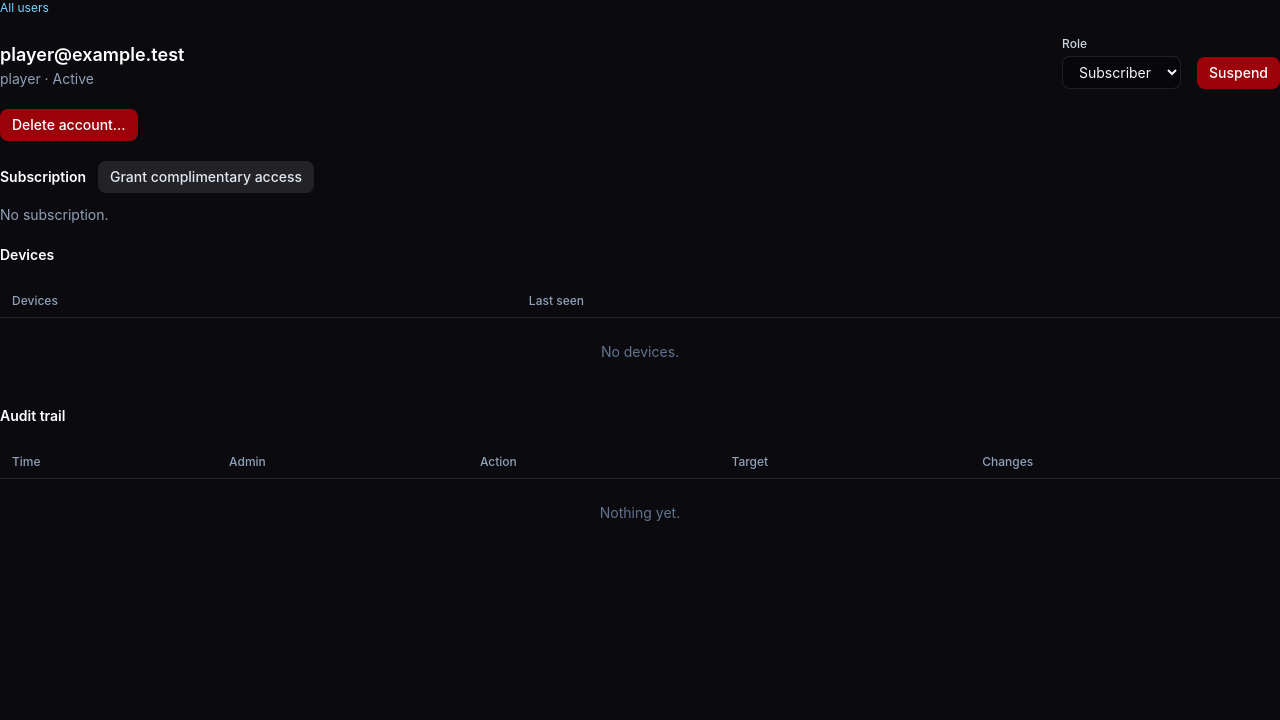
Test: Subscription panel (S13, FR-SUB-4, US-F2) › subscribed is explained in the dialog
Step 1. Click the button "Grant complimentary access" → (206, 177), box left=98, top=161, right=314, bottom=193
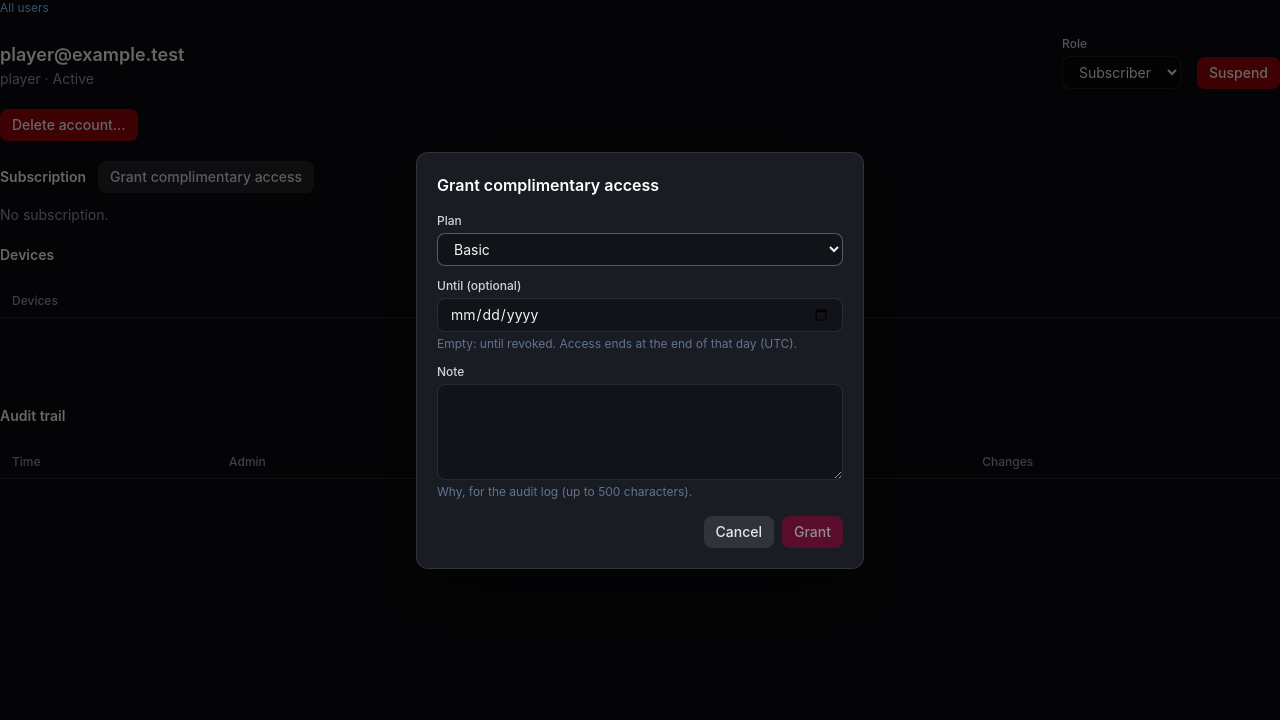
Step 2. Type "x" into the text box labelled "Note" → (640, 432), box left=437, top=384, right=843, bottom=480
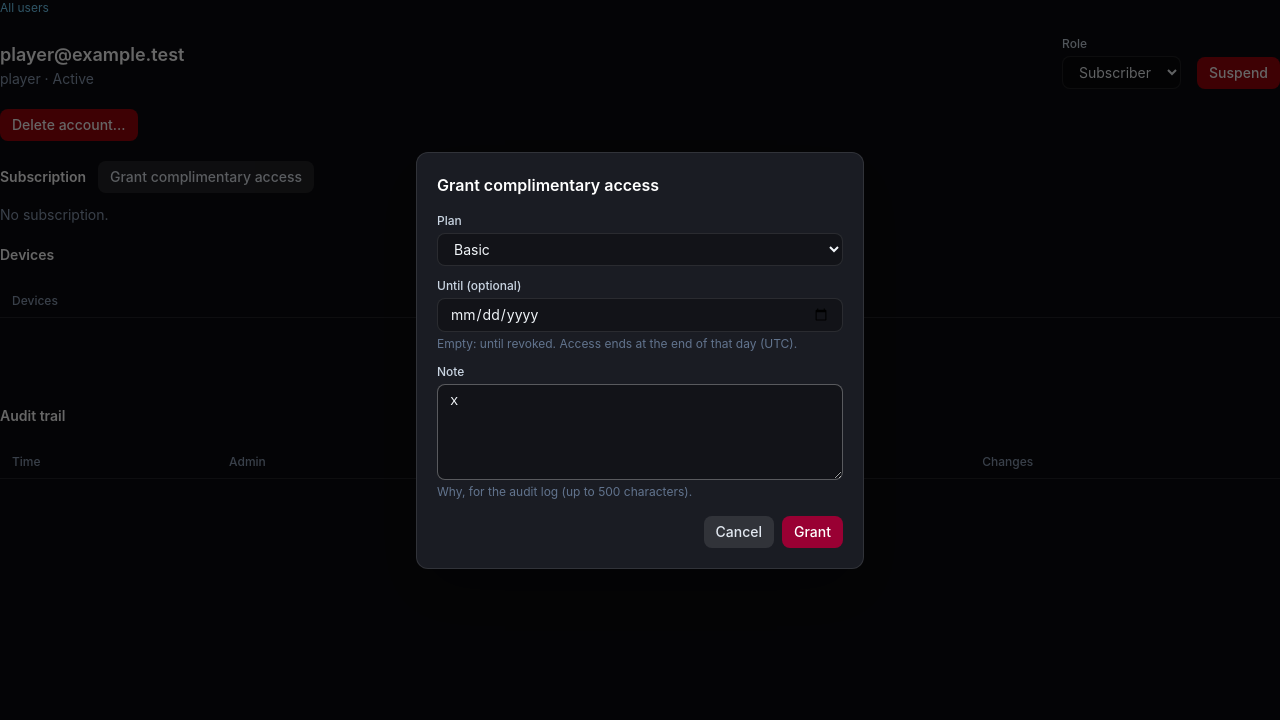
Step 3. Click the button "Grant" → (812, 532), box left=782, top=516, right=843, bottom=548
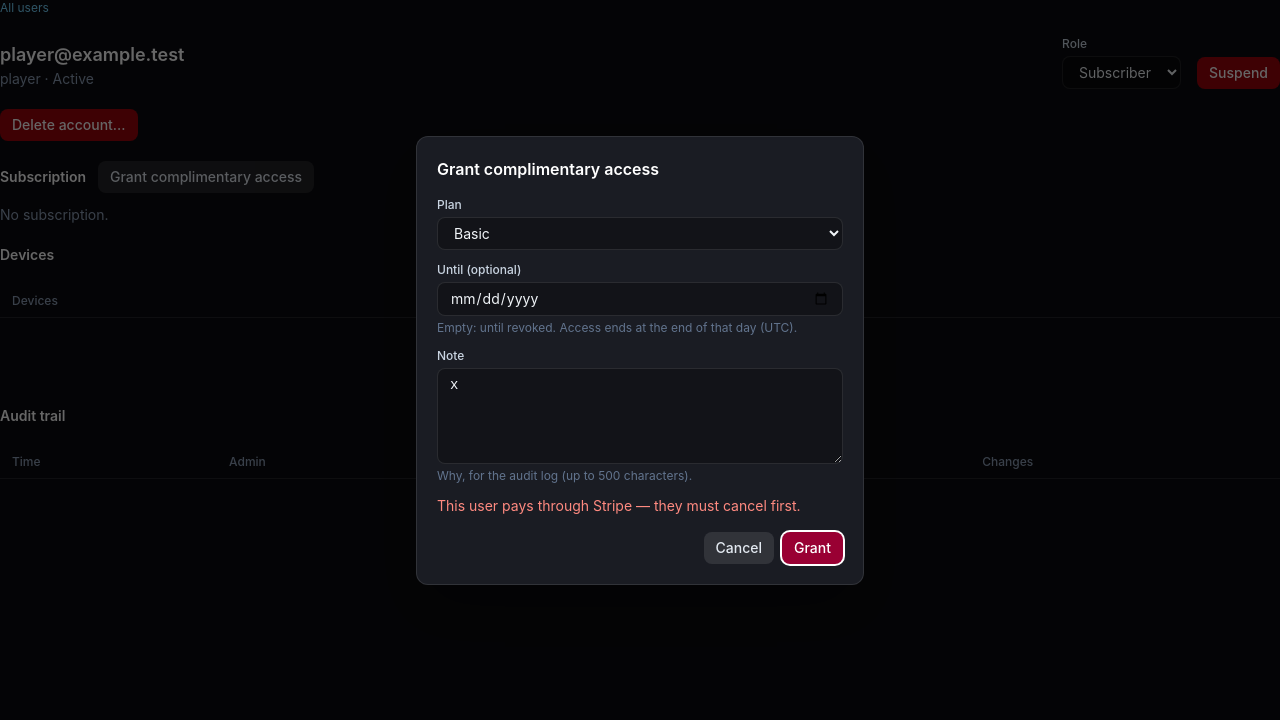
Check: the message reads "This user pays through Stripe — they must cancel first.", box left=437, top=496, right=801, bottom=514
